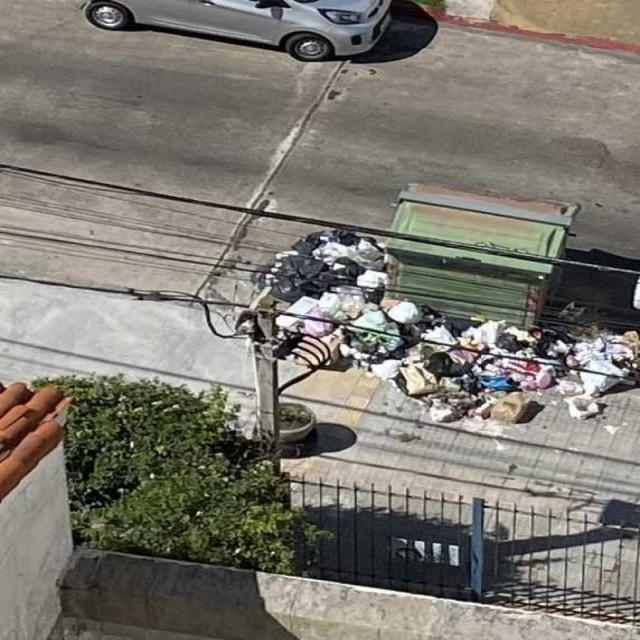garbage: (361, 298, 640, 436), (231, 220, 404, 377)
